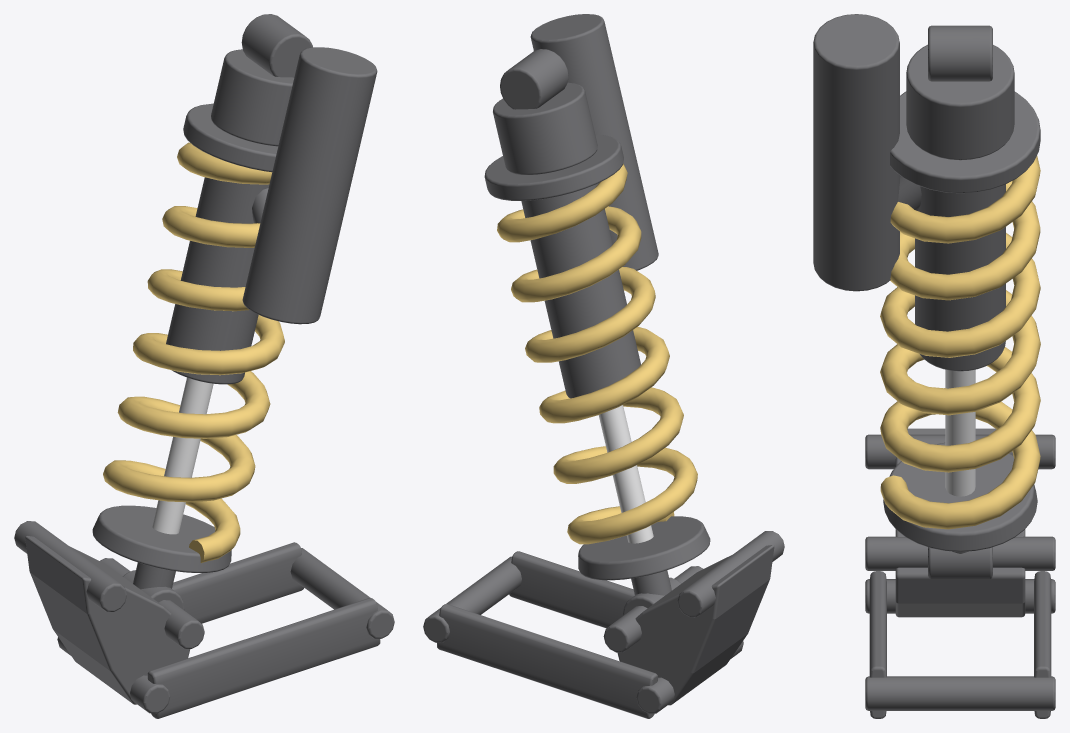
Rendered from bike_superbike__rear_shock.glb.
3 views of the same model, side by side, from view 1: azimuth 30°, elevation 25°; view 2: azimuth 150°, elevation 25°; view 3: azimuth 270°, elevation 25° (orthographic). The views are drawn at different scales.
Parts seen in each view (by area): view 1: chassis__rear_shock__body, chassis__rear_suspension_linkage, chassis__rear_shock__spring, chassis__rear_shock__shaft; view 2: chassis__rear_shock__body, chassis__rear_suspension_linkage, chassis__rear_shock__spring, chassis__rear_shock__shaft; view 3: chassis__rear_shock__body, chassis__rear_shock__spring, chassis__rear_suspension_linkage, chassis__rear_shock__shaft.
Part boxes in pixels (x1,y1,x2,y2): chassis__rear_shock__body: [92, 14, 377, 610]; chassis__rear_suspension_linkage: [14, 521, 394, 718]; chassis__rear_shock__spring: [103, 142, 284, 563]; chassis__rear_shock__shaft: [152, 377, 213, 534]; chassis__rear_shock__body: [484, 14, 710, 615]; chassis__rear_suspension_linkage: [423, 531, 784, 718]; chassis__rear_shock__spring: [497, 163, 697, 544]; chassis__rear_shock__shaft: [598, 405, 653, 543]; chassis__rear_shock__body: [813, 14, 1040, 579]; chassis__rear_shock__spring: [880, 155, 1040, 529]; chassis__rear_suspension_linkage: [865, 428, 1055, 718]; chassis__rear_shock__shaft: [945, 369, 975, 496].
Size of the model in its own units: 17.28 by 34.9 by 11.2.
